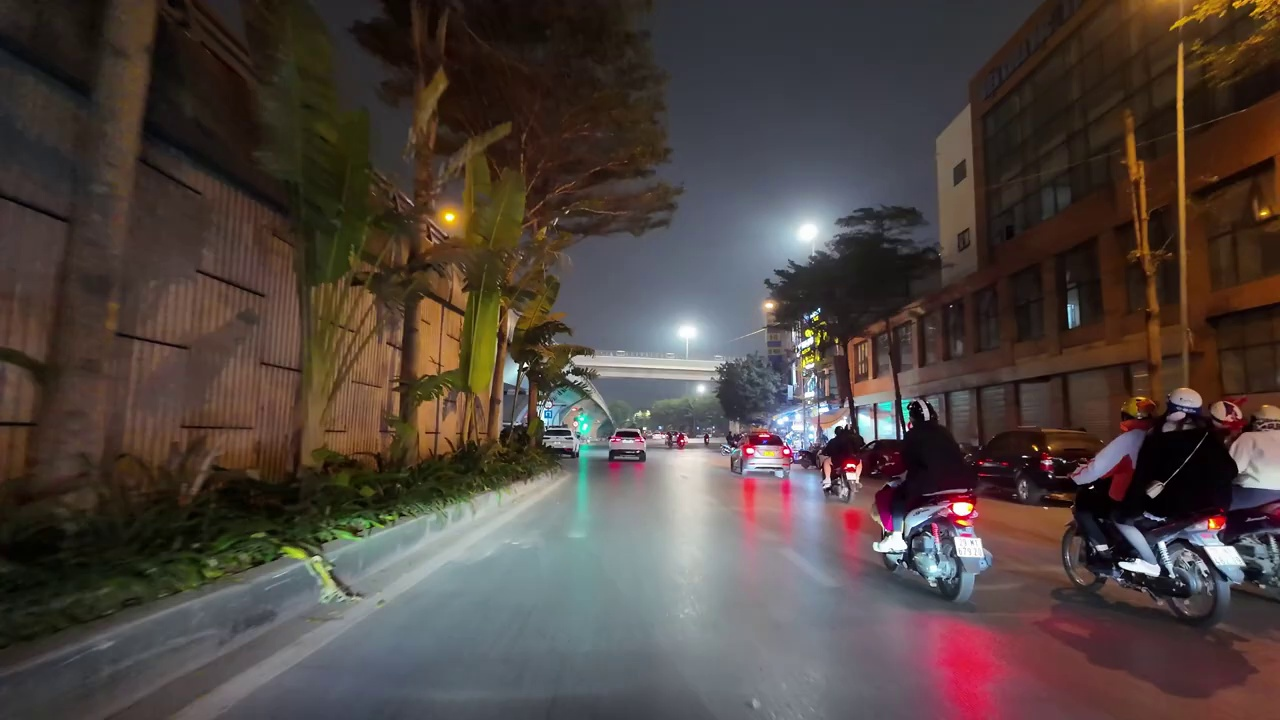acesa: (433, 204, 468, 236), (675, 320, 701, 346), (793, 219, 819, 244)
